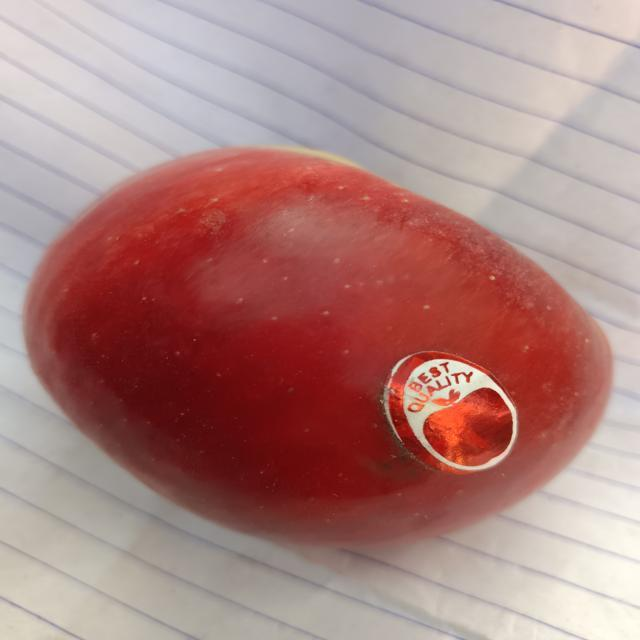Fresh Apple: (15, 147, 620, 546)
